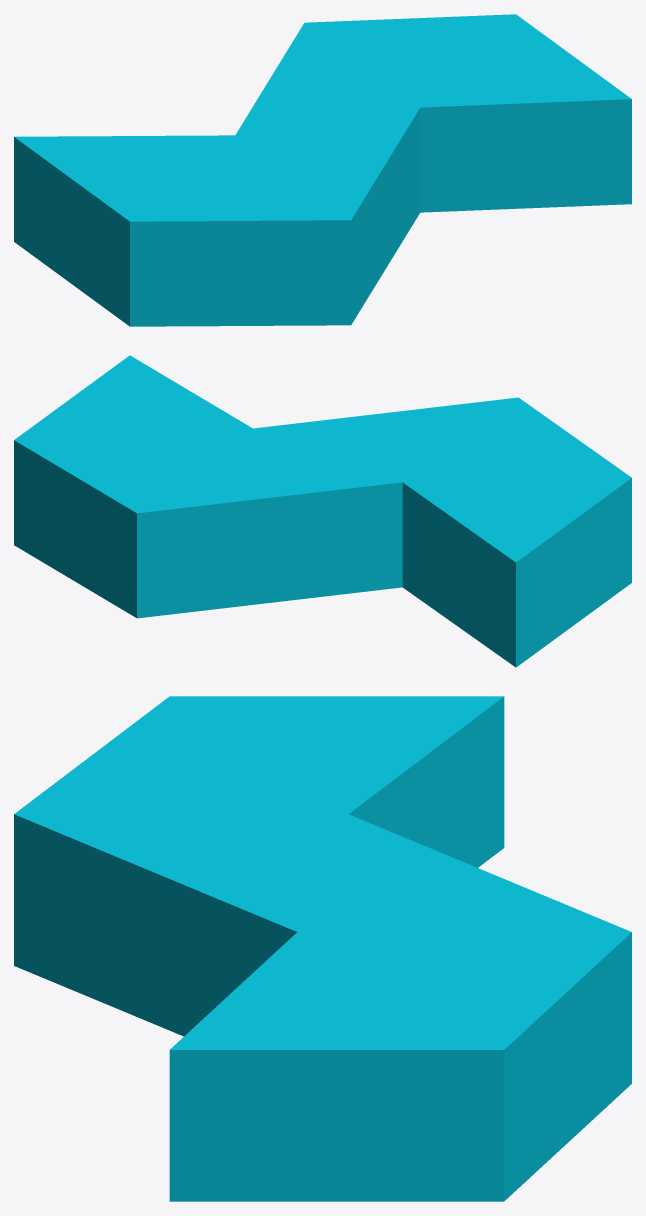
Rendered from RunPart-Z.fbx.
3 renders of one model, top to bottom at view 1: azimuth 30°, elevation 25°; view 2: azimuth 150°, elevation 25°; view 3: azimuth 270°, elevation 25°, orthographic. The views are drawn at different scales.
Parts seen in each view (by area): view 1: RunPart - Z; view 2: RunPart - Z; view 3: RunPart - Z.
Part boxes in pixels (bbox=[...]): RunPart - Z: bbox=[14, 14, 631, 326]; RunPart - Z: bbox=[14, 355, 631, 667]; RunPart - Z: bbox=[14, 696, 631, 1201].
Size of the model in its own units: 1000 by 200 by 739.
